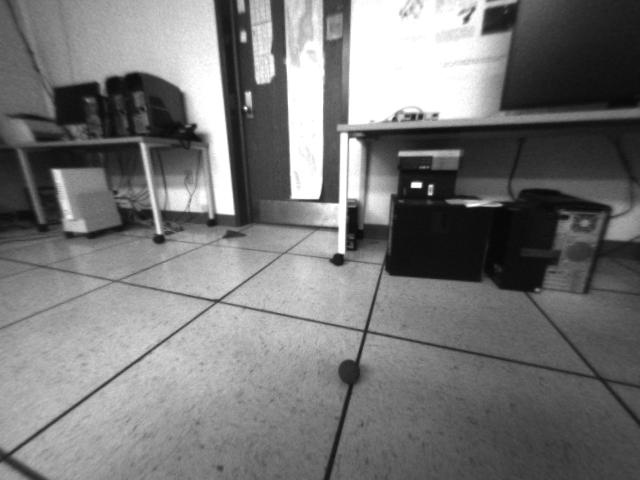dogtoy: (332, 352, 368, 389)
